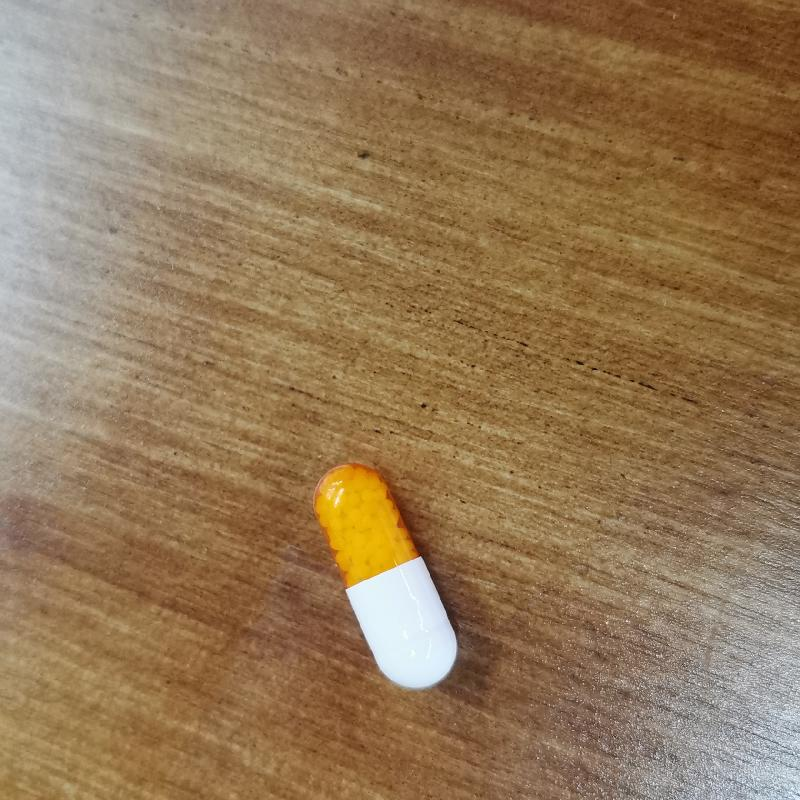pills: (300, 455, 470, 718)
